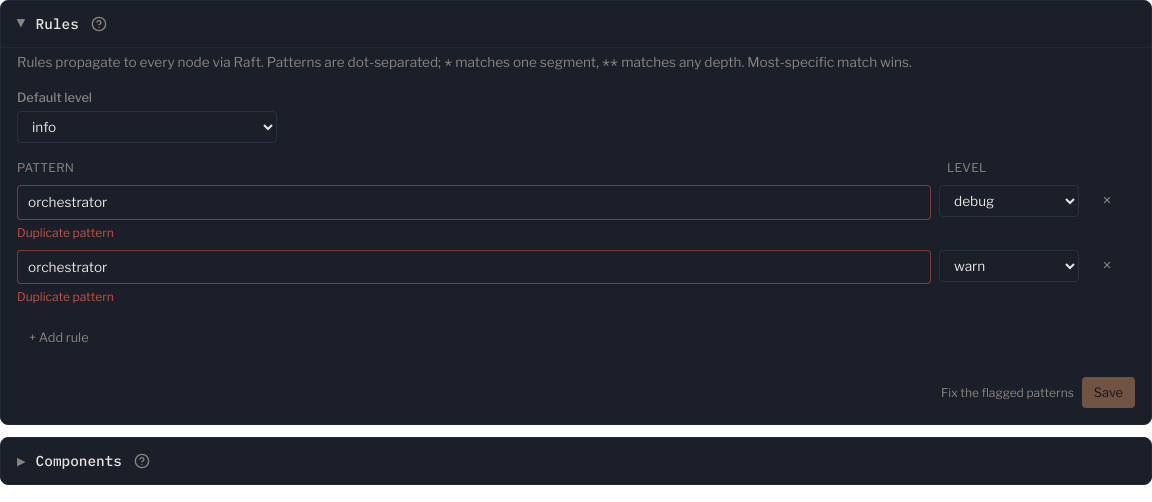
Test: LogLevelsSettings save gates › a flagged pattern shows its error under the row and the reason beside Save, until fixed
Check: the text "Duplicate pattern" is shown 2 times, box [17,225,114,240]; [17,289,114,304]
Check: the text "Fix the flagged patterns" is shown, box [941,384,1074,402]
Click the button named "Remove rule". click: (1107, 266)
box: [1087,250,1127,282]
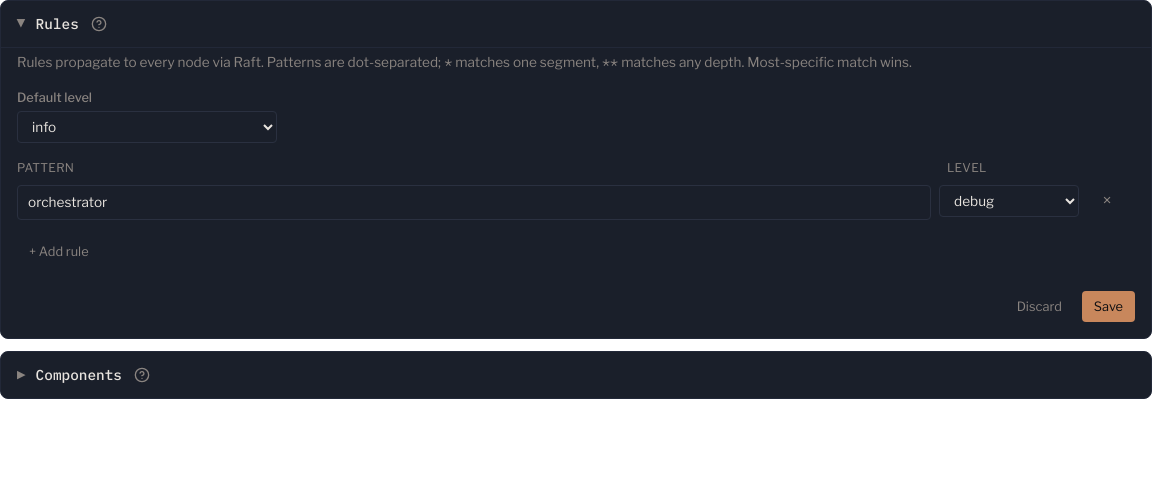
Check: the text "Duplicate pattern" is gone
Check: the text "Fix the flagged patterns" is gone
Check: the button "Save" is enabled, box [1082,291,1135,322]
